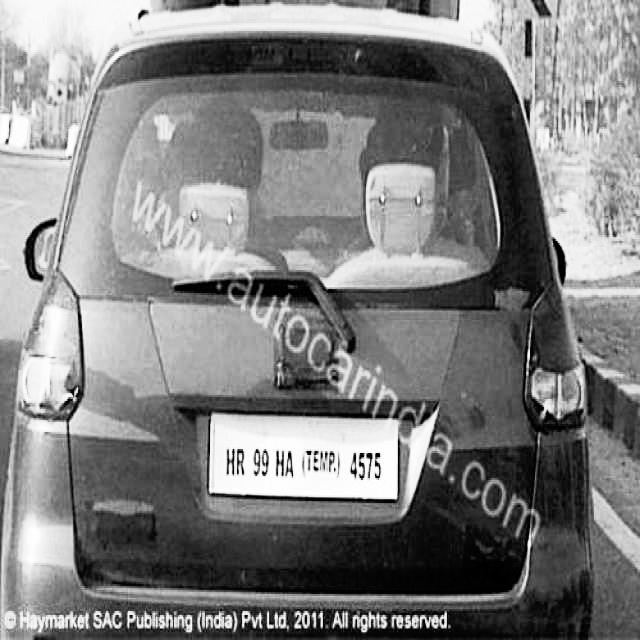Car: (21, 17, 585, 640)
